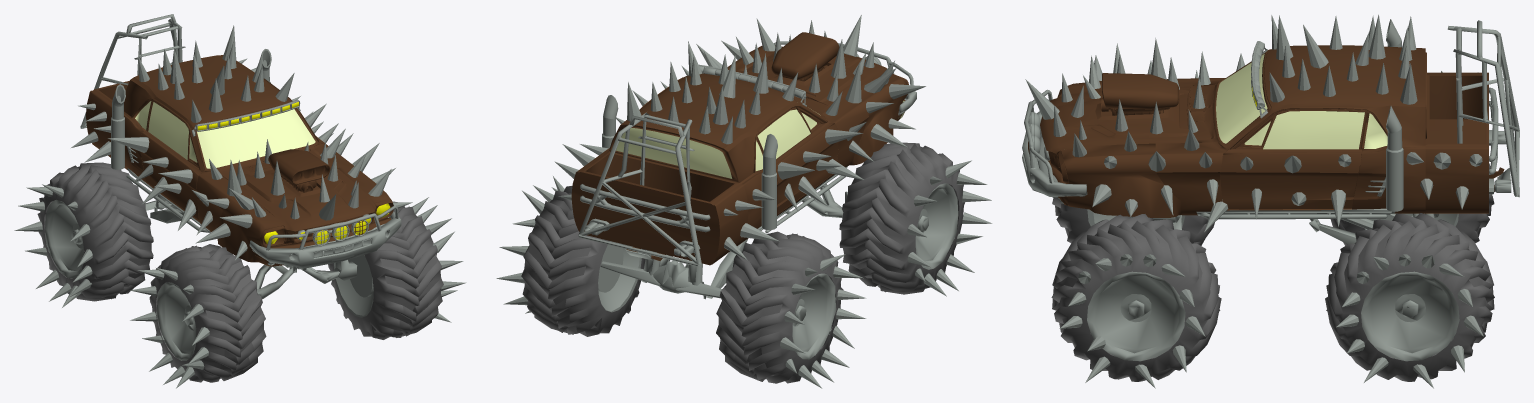
Rendered from Car_Opt_Monster_2.fbx.
3 renders of one model, left to right at view 1: azimuth 30°, elevation 25°; view 2: azimuth 150°, elevation 25°; view 3: azimuth 270°, elevation 25°, orthographic. The views are drawn at different scales.
Visible parts, largest first — view 1: Truck.068, Truck.069, Truck.042, Truck.039, Truck.051, Truck.060; view 2: Truck.068, Truck.042, Truck.069, Truck.071, Truck.051, Truck.060; view 3: Truck.068, Truck.071, Truck.039, Truck.072, Truck.051, Truck.042, Truck.069.
Boxes of the visible parts, x1,y1,x2,y2 form: Truck.068: [71, 14, 412, 299]; Truck.069: [14, 162, 153, 307]; Truck.042: [130, 244, 266, 388]; Truck.039: [328, 197, 466, 339]; Truck.051: [218, 139, 376, 231]; Truck.060: [108, 100, 201, 230]; Truck.068: [554, 18, 925, 299]; Truck.042: [839, 142, 992, 296]; Truck.069: [716, 231, 866, 388]; Truck.071: [496, 176, 646, 336]; Truck.051: [741, 15, 886, 113]; Truck.060: [756, 107, 864, 213]; Truck.068: [1022, 14, 1519, 244]; Truck.071: [1325, 213, 1494, 388]; Truck.039: [1051, 214, 1221, 388]; Truck.072: [1220, 108, 1370, 226]; Truck.051: [1025, 54, 1216, 153]; Truck.042: [1052, 197, 1214, 245]; Truck.069: [1330, 163, 1494, 245].
Size of the model in its own units: 202 by 164 by 251.
